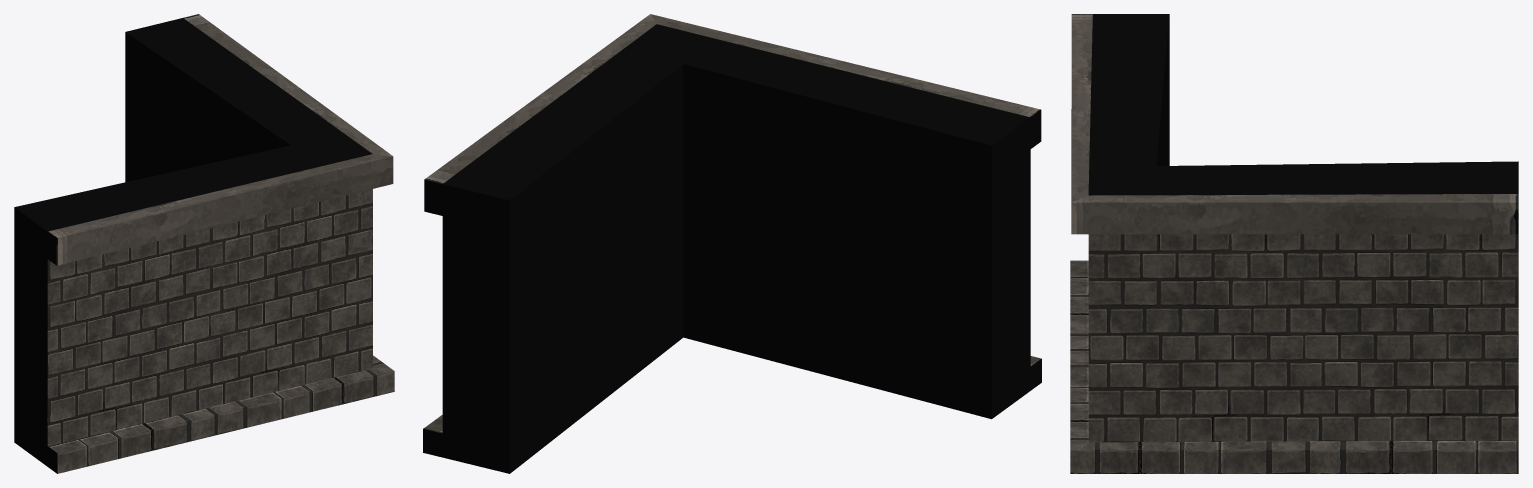
The model's file is ModularWallCorner01.fbx.
3 renders of one model, left to right at view 1: azimuth 30°, elevation 25°; view 2: azimuth 150°, elevation 25°; view 3: azimuth 270°, elevation 25°, orthographic. The views are drawn at different scales.
Parts seen in each view (by area): view 1: Plane; view 2: Plane; view 3: Plane.
Boxes of the visible parts, x1=… form: Plane: x1=14, y1=14, x2=394, y2=473; Plane: x1=423, y1=14, x2=1041, y2=473; Plane: x1=1070, y1=14, x2=1518, y2=473.
Size of the model in its own units: 3 by 2 by 3.
Materials: 1 (1 with a texture image).
